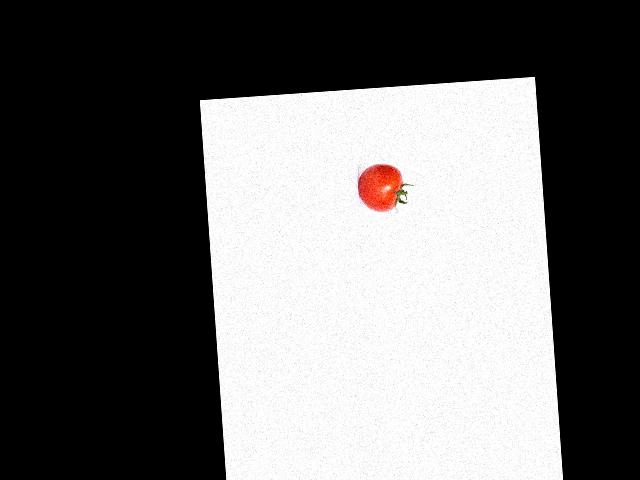tomato: (357, 162, 405, 213)
